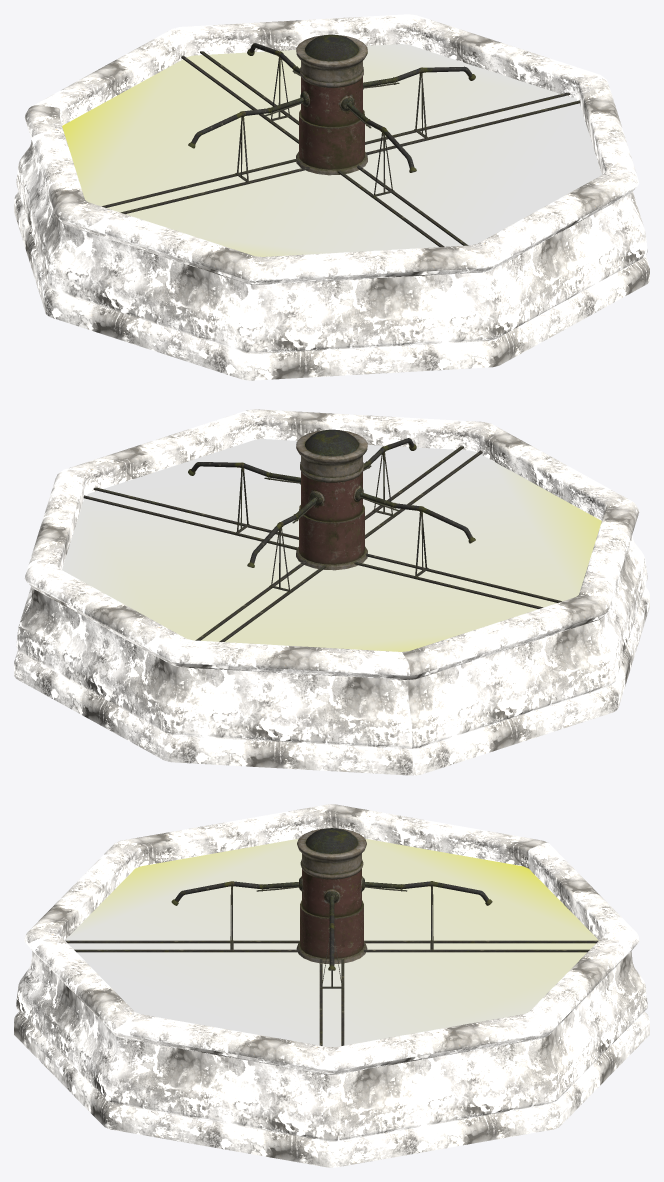
3 renders of one model, top to bottom at view 1: azimuth 30°, elevation 25°; view 2: azimuth 150°, elevation 25°; view 3: azimuth 270°, elevation 25°, orthographic. The views are drawn at different scales.
Visible parts, largest first — view 1: SM_fountain_01_LOD0; view 2: SM_fountain_01_LOD0; view 3: SM_fountain_01_LOD0.
Boxes of the visible parts, box(x1,y1,x2,y2) form: SM_fountain_01_LOD0: box(14, 14, 649, 380); SM_fountain_01_LOD0: box(14, 409, 649, 775); SM_fountain_01_LOD0: box(14, 804, 649, 1167).
Size of the model in its own units: 619 by 619 by 215.
3 materials, 2 textured.
